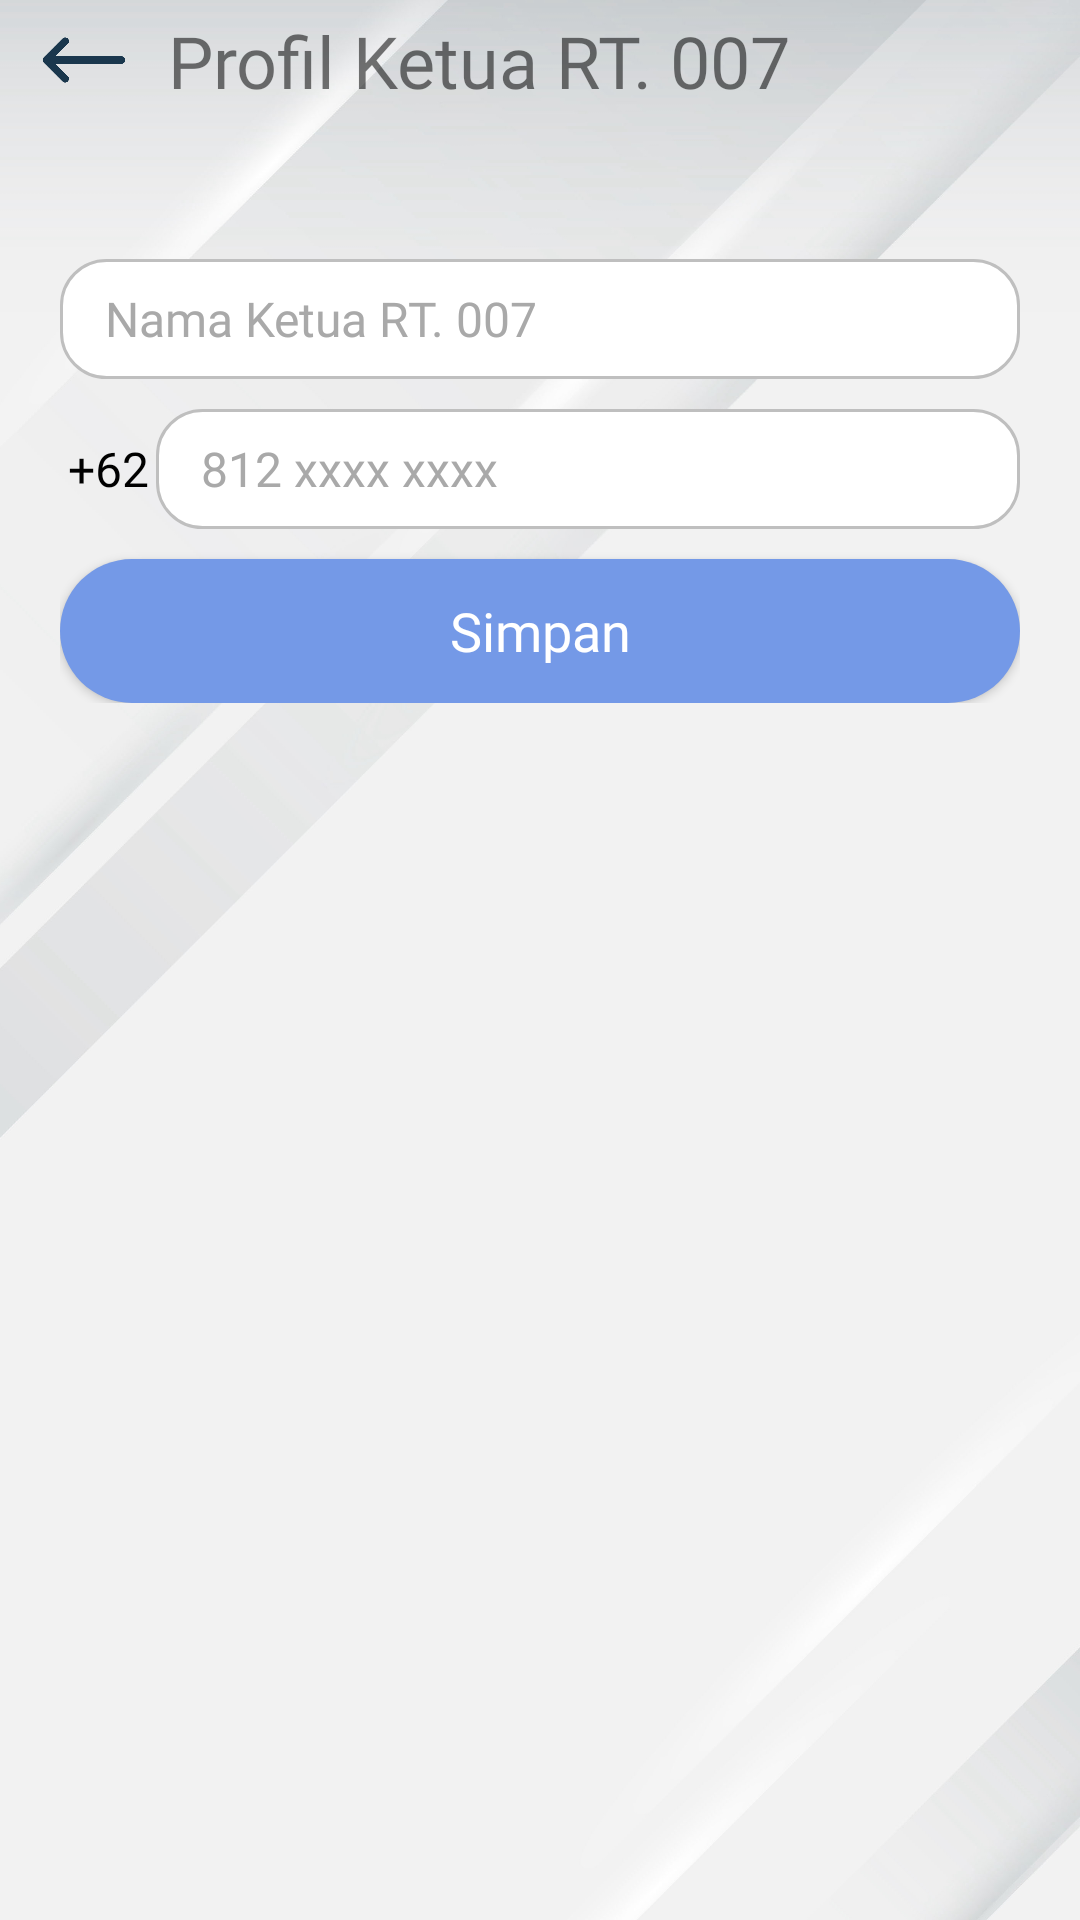

Screen size 1080w x 1920h. Icon name, then its box in pixels as [x1,y1,x2,y2]:
back: [30,37,138,120]
